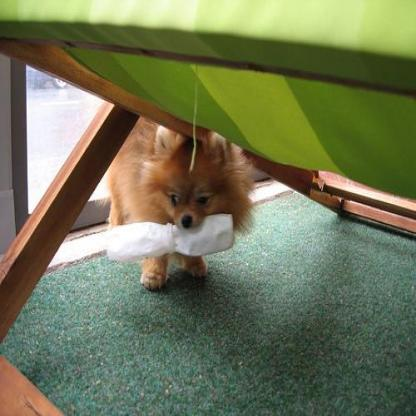Pomeranian: (105, 114, 254, 292)
